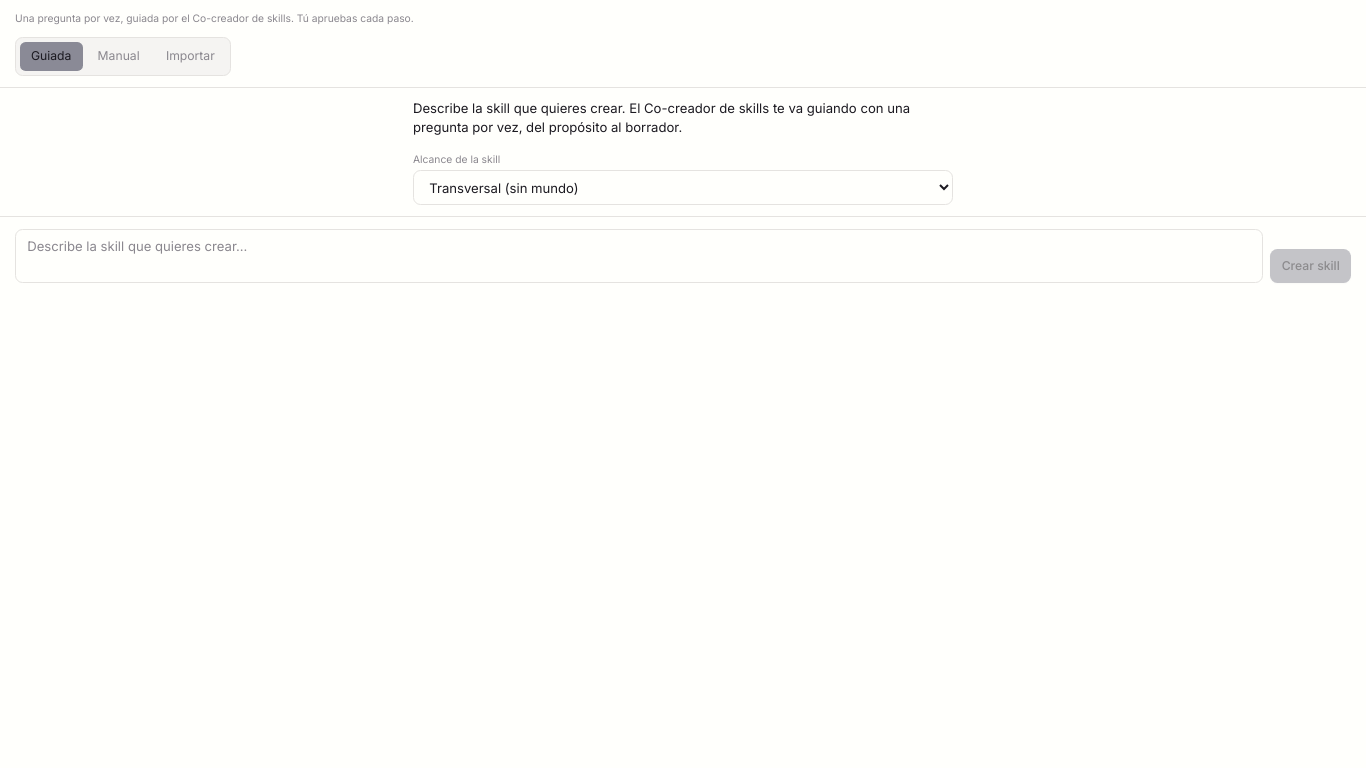
CoCreationPanel — authoring sub-modes (REQ-CC-1) › preserves the guided chat input across guided→manual→guided (SC-CC-1.4)
The image size is (1366, 768).
Type "Quiero una skill de eneagrama" into the text box named "Idea de skill" at (639, 256), box [15,229,1263,283]
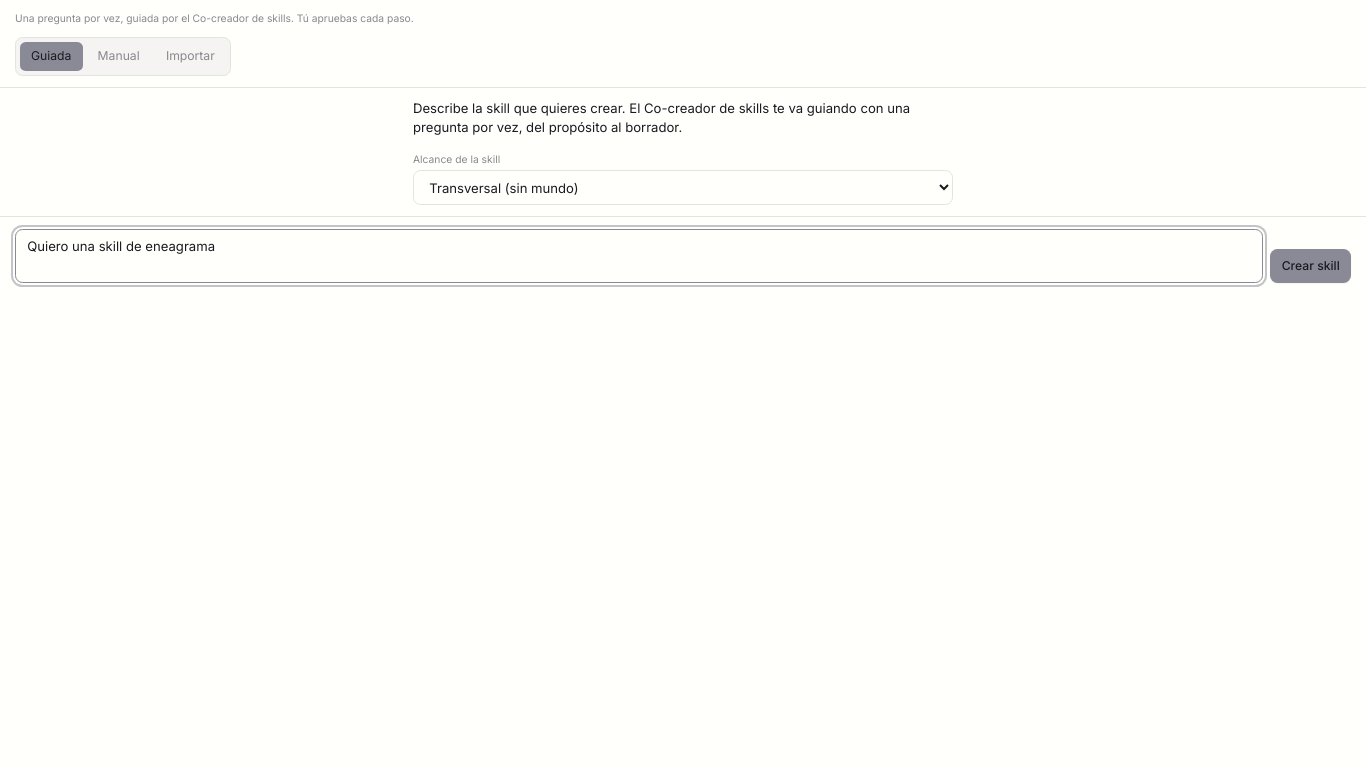
Click the tab "Manual" at (119, 56), box [86,42,151,71]
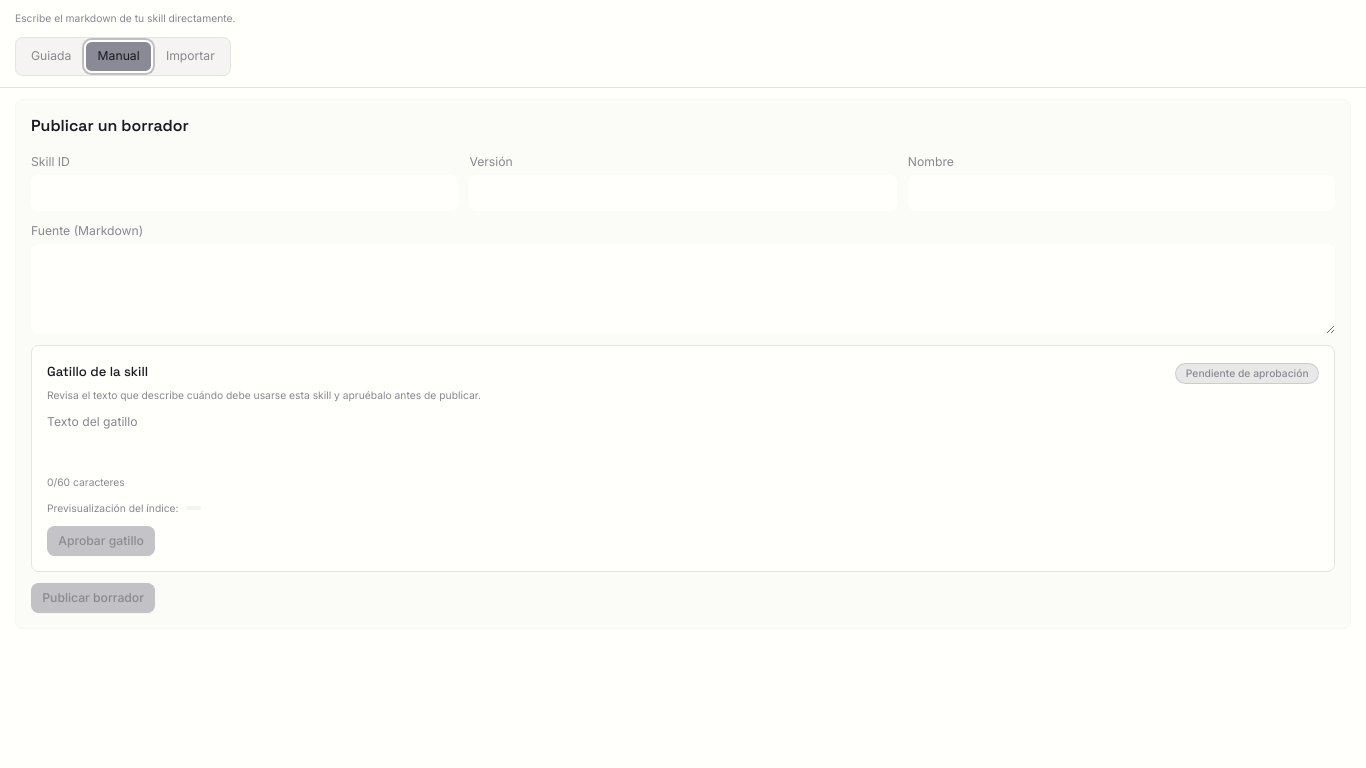
Now the heading "Publicar un borrador" is shown, box [31,116,189,136]
Click the tab "Guiada" at (51, 56), box [20,42,83,71]
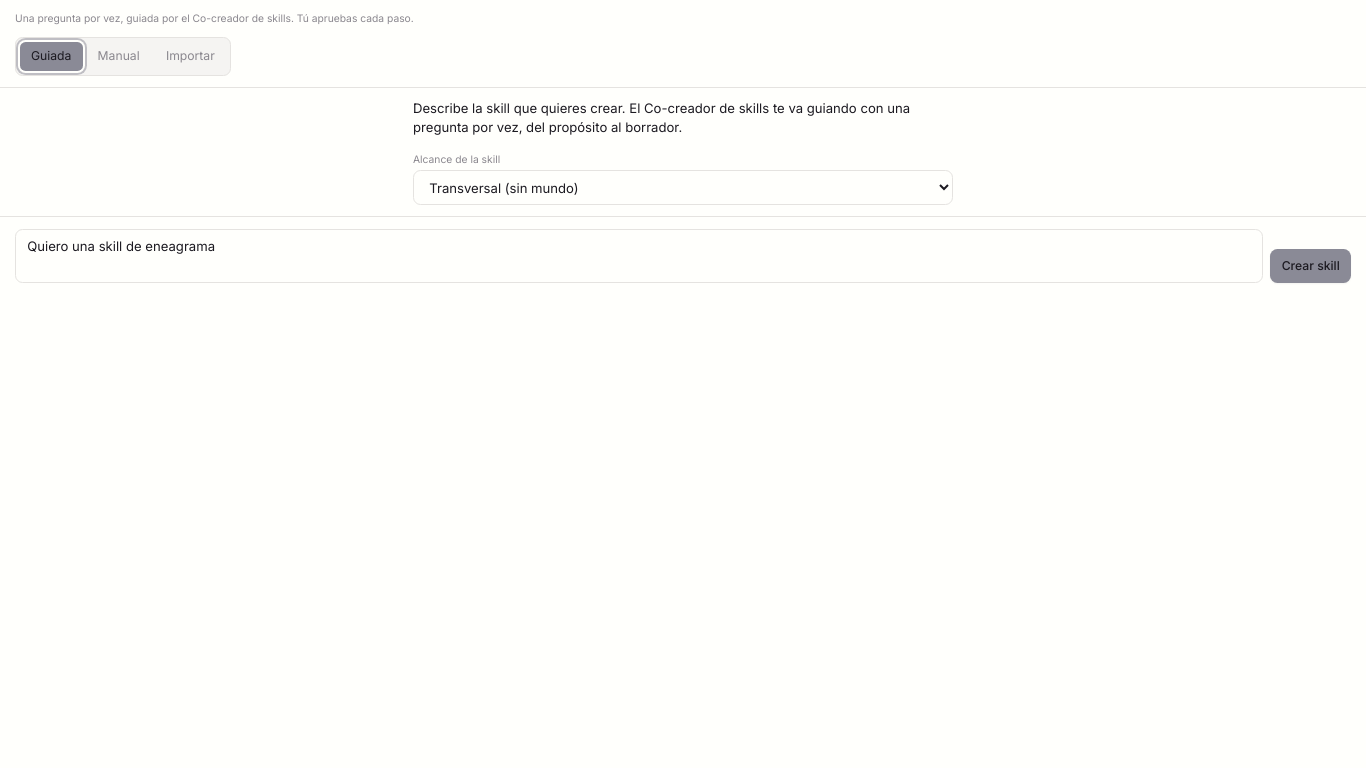
Now the text box named "Idea de skill" holds "Quiero una skill de eneagrama", box [15,229,1263,283]
